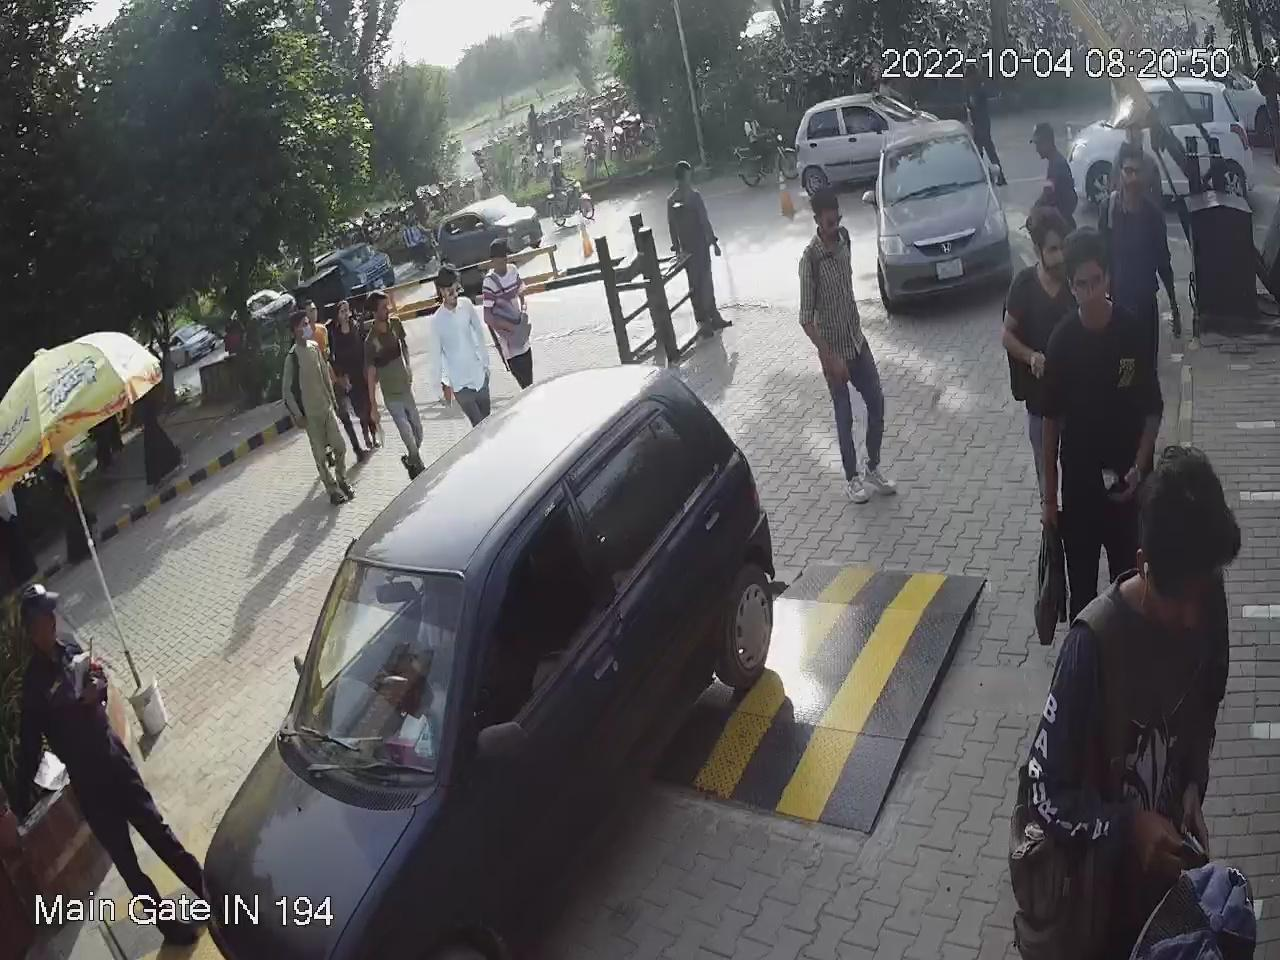windshield: (278, 545, 473, 803), (878, 130, 998, 218)
